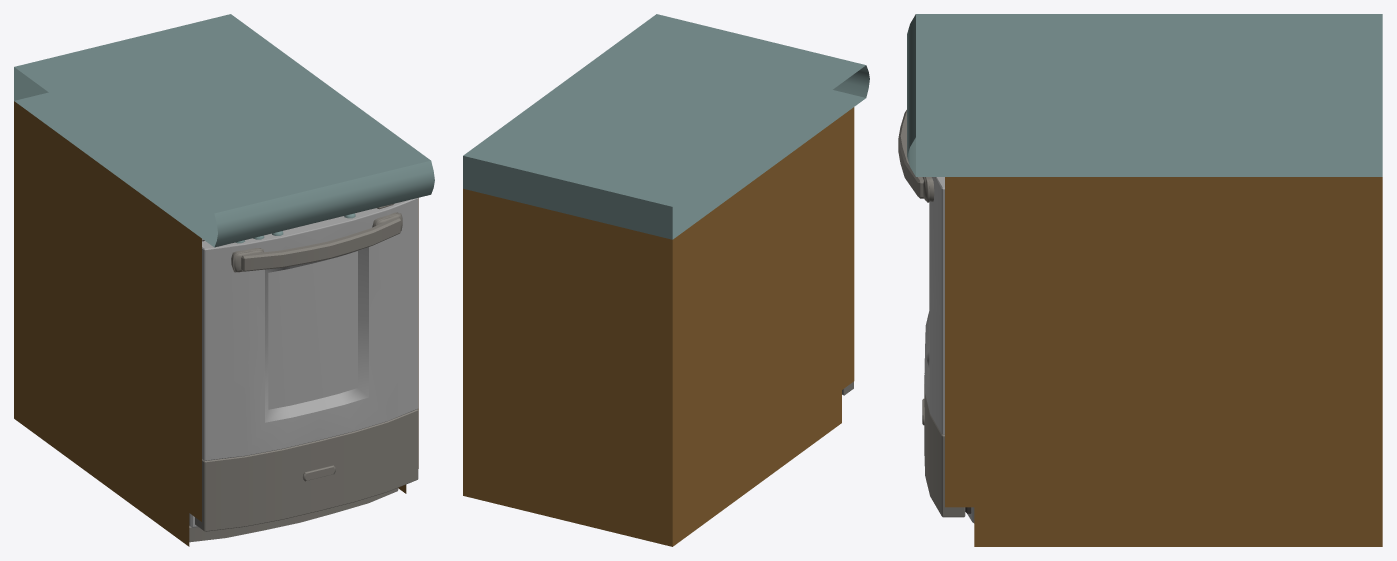
File: DishwasherCounter.fbx
3 renders of one model, left to right at view 1: azimuth 30°, elevation 25°; view 2: azimuth 150°, elevation 25°; view 3: azimuth 270°, elevation 25°, orthographic. The views are drawn at different scales.
Parts seen in each view (by area): view 1: DishwasherCounter; view 2: DishwasherCounter; view 3: DishwasherCounter.
Boxes of the visible parts, x1,y1,x2,y2 form: DishwasherCounter: (14,14,434,546); DishwasherCounter: (463,14,869,546); DishwasherCounter: (898,14,1382,546).
Bounding box in the file's own units: 1 × 1.55 × 1.66.
